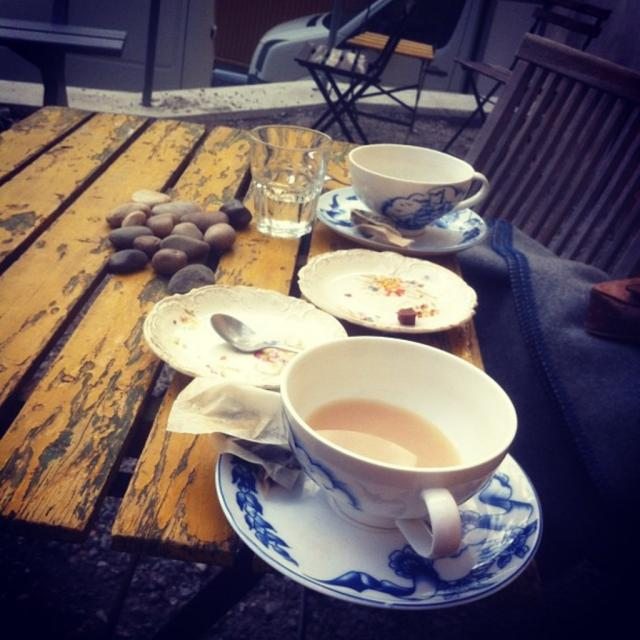Coffee: (302, 400, 463, 470)
Tea: (266, 336, 526, 560), (295, 392, 461, 469)
